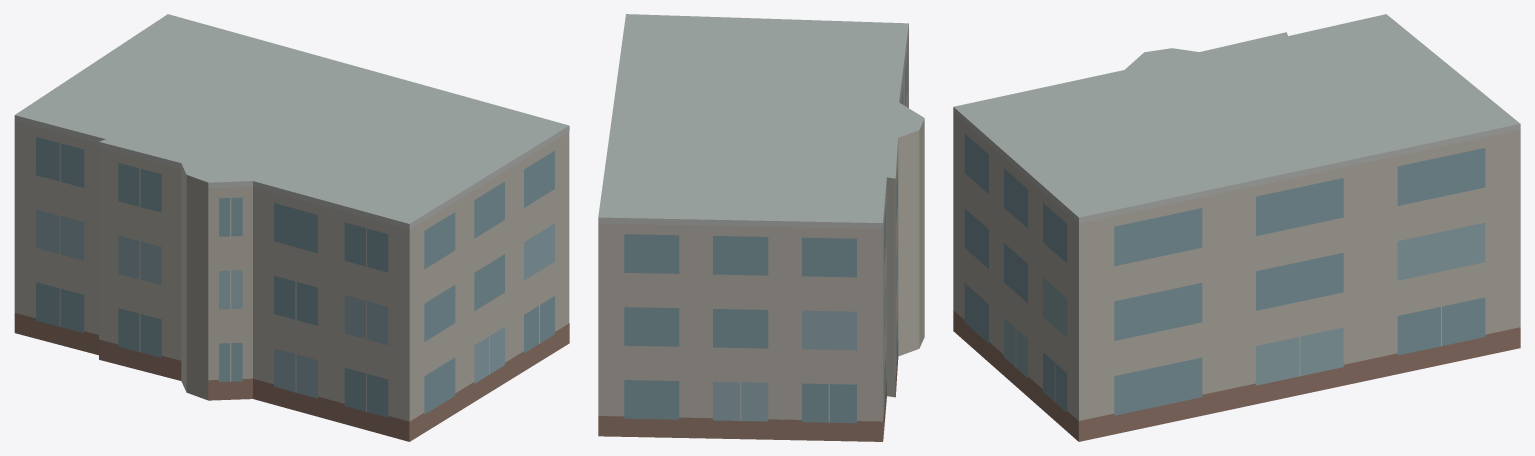
Rendered from survey-upis-32657978.glb.
3 views of the same model, side by side, from view 1: azimuth 30°, elevation 25°; view 2: azimuth 150°, elevation 25°; view 3: azimuth 270°, elevation 25° (orthographic). The views are drawn at different scales.
Parts seen in each view (by area): view 1: survey-upis-32657978.tmp; view 2: survey-upis-32657978.tmp; view 3: survey-upis-32657978.tmp.
Boxes of the visible parts, x1,y1,x2,y2 form: survey-upis-32657978.tmp: (14,14,569,441); survey-upis-32657978.tmp: (598,14,924,441); survey-upis-32657978.tmp: (953,14,1520,441).
Size of the model in its own units: 17.83 by 9.15 by 20.98.
